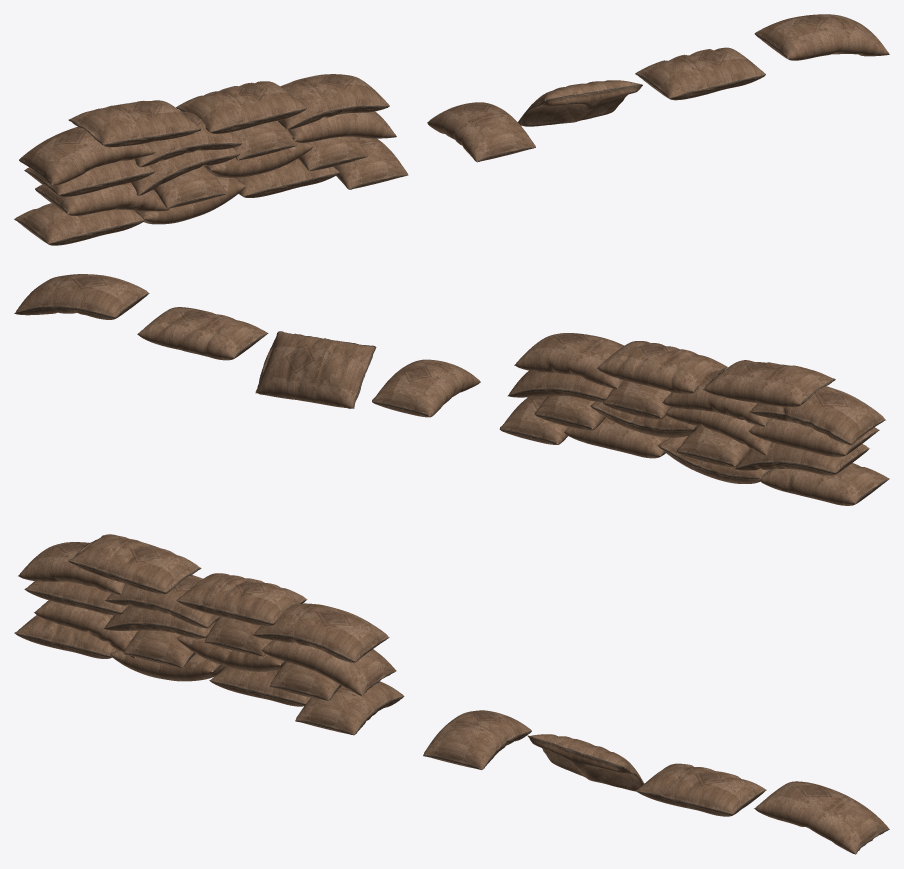
Rendered from sandbag_wall_-_24mb.glb.
The picture shows the model from 3 angles, top to bottom: view 1: azimuth 30°, elevation 25°; view 2: azimuth 150°, elevation 25°; view 3: azimuth 330°, elevation 25°; orthographic projection.
Parts seen in each view (by area): view 1: Cube_17, Cube_16, Cube_11, Cube_44, Cube_14, Cube_12, Cube_8, Cube_15, Cube_45, Cube_23, Cube_6, Cube_9 (+9 smaller); view 2: Cube_15, Cube_16, Cube_17, Cube_11, Cube_44, Cube_14, Cube_12, Cube_8, Cube_45, Cube_23, Cube_9, Cube_6 (+9 smaller); view 3: Cube_17, Cube_44, Cube_8, Cube_16, Cube_11, Cube_14, Cube_15, Cube_6, Cube_13, Cube_12, Cube_10, Cube_45 (+9 smaller).
Part boxes in pixels (left/top/right/bottom): Cube_17: left=754, top=14, right=889, bottom=60; Cube_16: left=635, top=47, right=765, bottom=100; Cube_11: left=176, top=81, right=306, bottom=133; Cube_44: left=68, top=100, right=200, bottom=147; Cube_14: left=427, top=102, right=535, bottom=162; Cube_12: left=19, top=126, right=155, bottom=185; Cube_8: left=278, top=74, right=389, bottom=129; Cube_15: left=518, top=80, right=642, bottom=126; Cube_45: left=14, top=203, right=144, bottom=245; Cube_23: left=35, top=182, right=169, bottom=215; Cube_6: left=288, top=111, right=396, bottom=142; Cube_9: left=24, top=159, right=155, bottom=196; Cube_15: left=255, top=331, right=376, bottom=408; Cube_16: left=137, top=307, right=268, bottom=360; Cube_17: left=14, top=274, right=149, bottom=319; Cube_11: left=596, top=341, right=727, bottom=393; Cube_44: left=702, top=360, right=835, bottom=407; Cube_14: left=372, top=359, right=480, bottom=417; Cube_12: left=749, top=386, right=885, bottom=444; Cube_8: left=514, top=333, right=623, bottom=388; Cube_45: left=758, top=463, right=889, bottom=505; Cube_23: left=734, top=442, right=869, bottom=475; Cube_9: left=748, top=418, right=879, bottom=457; Cube_6: left=507, top=370, right=612, bottom=402; Cube_17: left=754, top=781, right=889, bottom=854; Cube_44: left=68, top=534, right=201, bottom=593; Cube_8: left=252, top=603, right=389, bottom=662; Cube_16: left=635, top=763, right=766, bottom=816; Cube_11: left=176, top=573, right=307, bottom=625; Cube_14: left=423, top=710, right=531, bottom=769; Cube_15: left=527, top=734, right=644, bottom=791; Cube_6: left=261, top=640, right=396, bottom=695; Cube_13: left=295, top=681, right=404, bottom=735; Cube_12: left=18, top=542, right=125, bottom=594; Cube_10: left=105, top=575, right=220, bottom=628; Cube_45: left=14, top=615, right=117, bottom=658.
Size of the model in its own units: 8 by 1.24 by 0.8342.
Materials: 1 (1 with a texture image).
